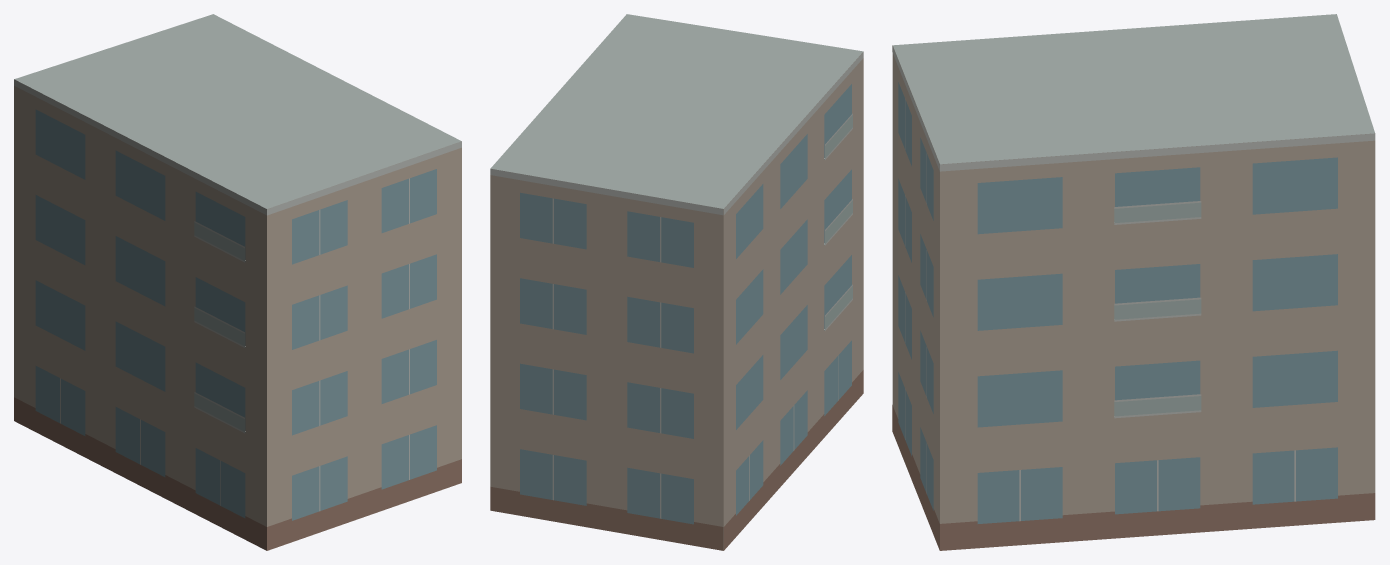
The model's file is survey-upis-32752553.glb.
3 renders of one model, left to right at view 1: azimuth 30°, elevation 25°; view 2: azimuth 150°, elevation 25°; view 3: azimuth 270°, elevation 25°, orthographic. The views are drawn at different scales.
Parts seen in each view (by area): view 1: survey-upis-32752553.tmp; view 2: survey-upis-32752553.tmp; view 3: survey-upis-32752553.tmp.
Part boxes in pixels (x1,y1,x2,y2): survey-upis-32752553.tmp: (14, 14, 461, 550); survey-upis-32752553.tmp: (490, 14, 863, 550); survey-upis-32752553.tmp: (892, 14, 1375, 550).
Bounding box in the file's own units: 10.85 × 13 × 14.72.
